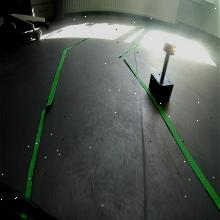red: (164, 40, 177, 56)
